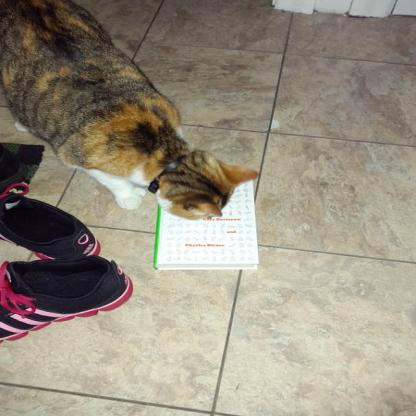Target: (1, 0, 257, 227)
